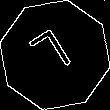L_SE: (29, 26, 81, 84)
